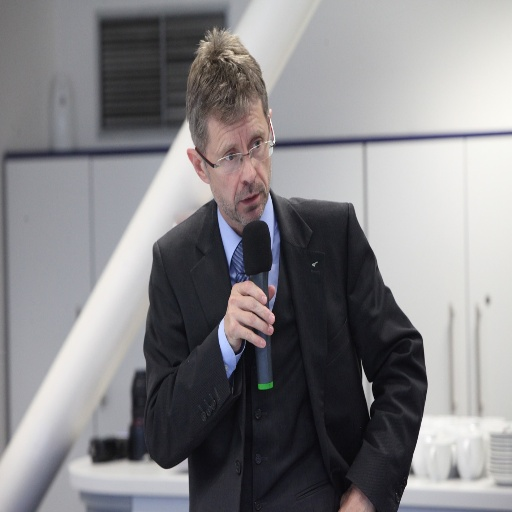hand: (229, 284, 276, 352), (337, 487, 376, 511)
